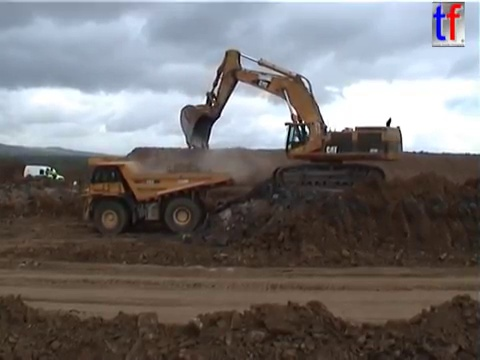excavator: (176, 46, 405, 195)
truck: (71, 155, 235, 236)
worker: (49, 166, 59, 182), (43, 165, 51, 182)
